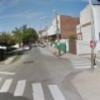crosswalks: (0, 76, 70, 100)
